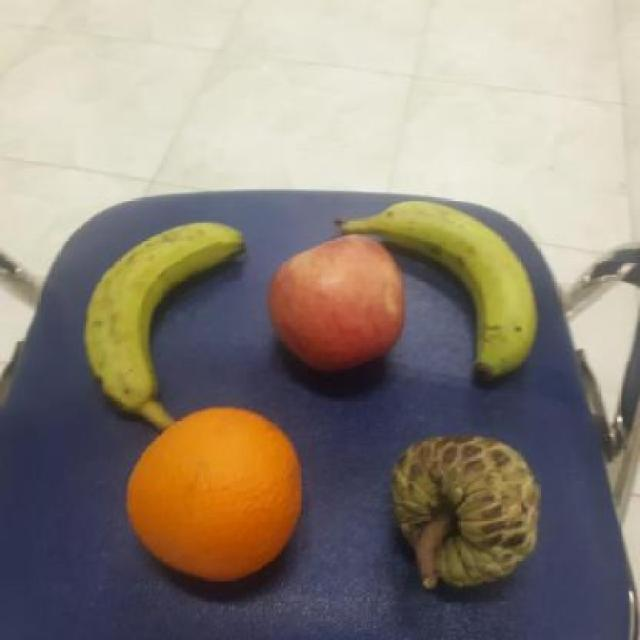apple: (265, 234, 406, 375)
banana: (340, 201, 538, 384), (85, 221, 247, 410)
oren: (125, 408, 302, 580)
sugar apple: (390, 432, 544, 590)
